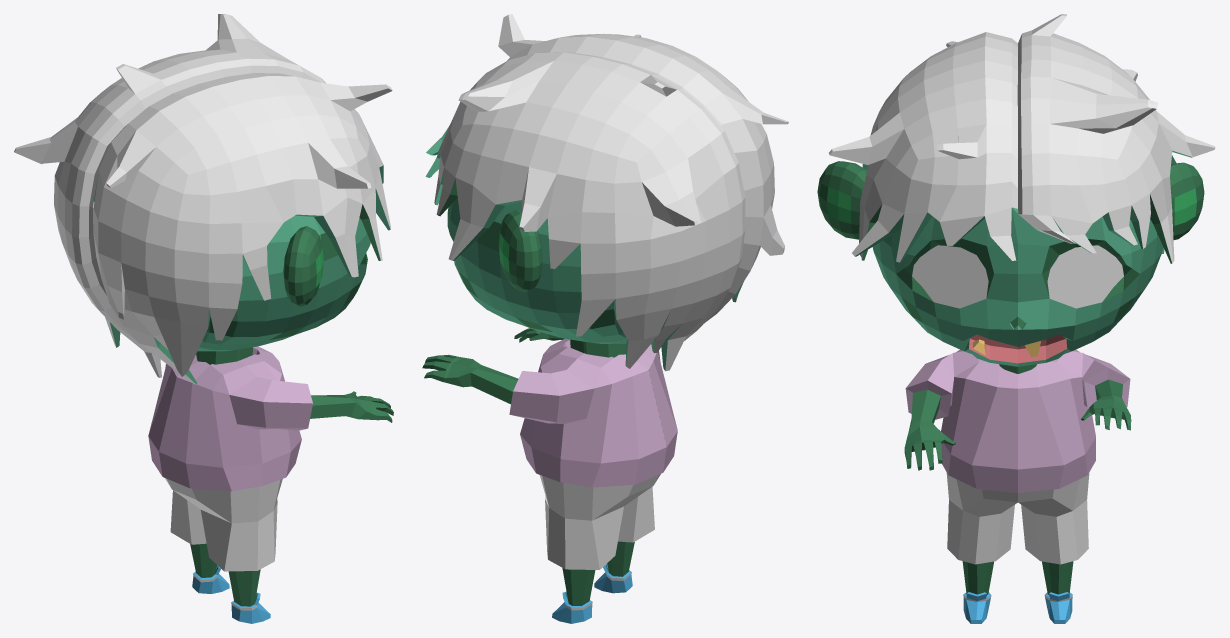
Rendered from ZOMBIE 2.fbx.
3 renders of one model, left to right at view 1: azimuth 30°, elevation 25°; view 2: azimuth 150°, elevation 25°; view 3: azimuth 270°, elevation 25°, orthographic. The views are drawn at different scales.
Parts seen in each view (by area): view 1: head, body; view 2: head, body; view 3: head, body.
Part boxes in pixels (<box>): head: <box>14,14,392,384</box>; body: <box>148,346,393,623</box>; head: <box>425,14,788,371</box>; body: <box>422,328,677,623</box>; head: <box>817,14,1215,373</box>; body: <box>904,349,1131,623</box>.
Bounding box in the file's own units: 83.28 × 147 × 94.83.
